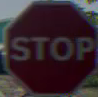Stop: (4, 6, 94, 78)
